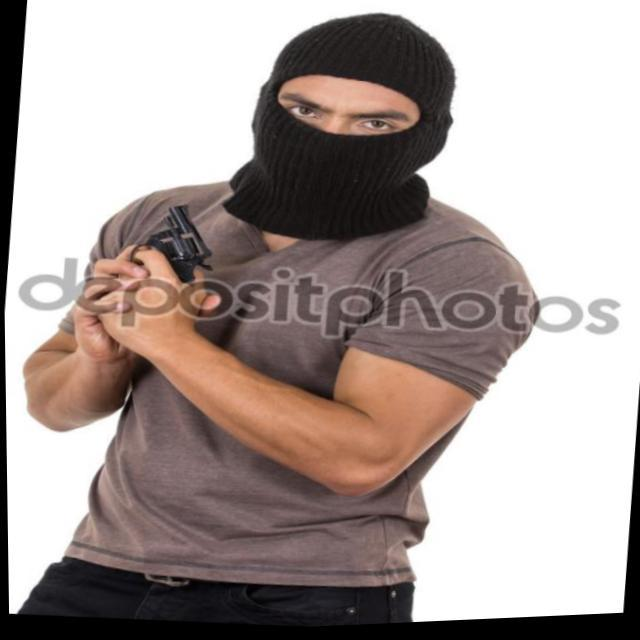weapon: (138, 200, 220, 294)
